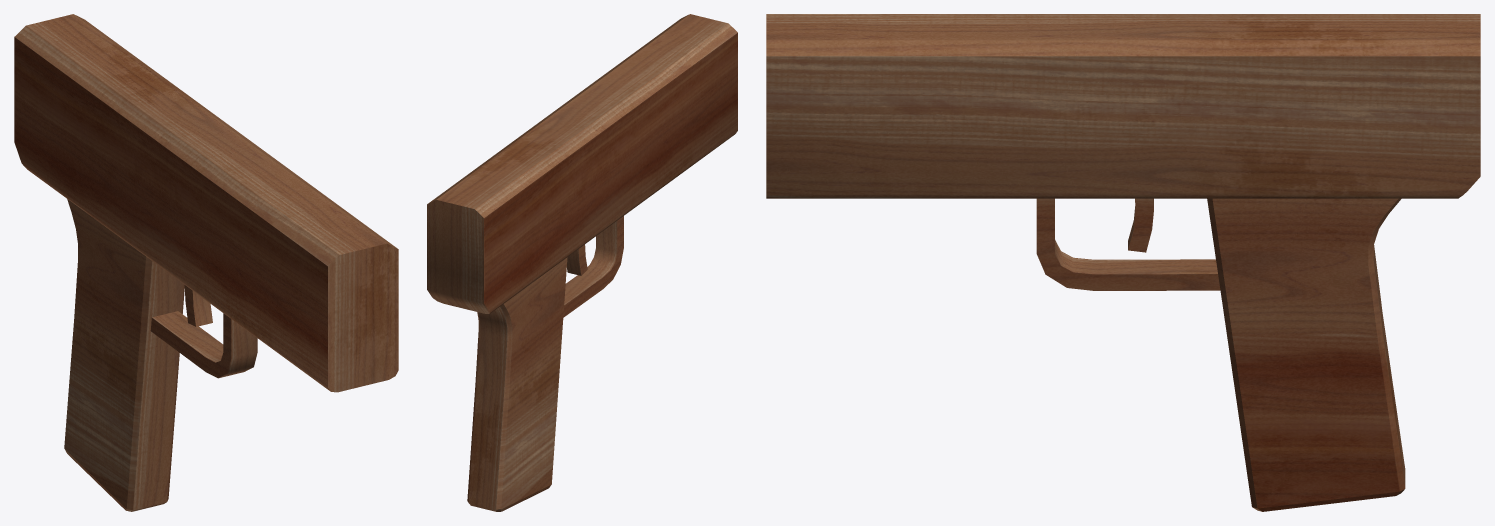
File: SM_GunProp.fbx
The picture shows the model from 3 angles, left to right: view 1: azimuth 30°, elevation 25°; view 2: azimuth 150°, elevation 25°; view 3: azimuth 270°, elevation 25°; orthographic projection. The views are drawn at different scales.
Visible parts, largest first — view 1: SM_GunProp; view 2: SM_GunProp; view 3: SM_GunProp.
Boxes of the visible parts, x1,y1,x2,y2 form: SM_GunProp: (14,14,398,511); SM_GunProp: (427,14,737,511); SM_GunProp: (766,14,1480,511).
Size of the model in its own units: 3.45 by 19.49 by 26.59.
